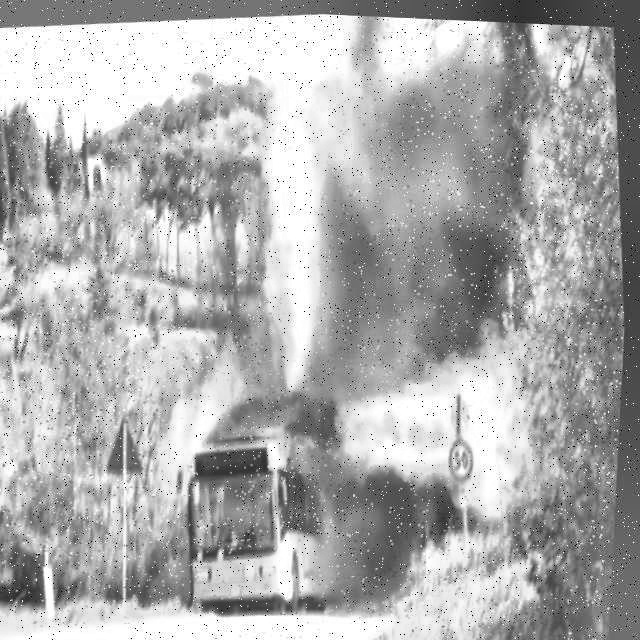Fire: (229, 21, 356, 389), (321, 334, 555, 524), (145, 363, 251, 491)
Smoke: (333, 12, 602, 352), (309, 460, 488, 631)
